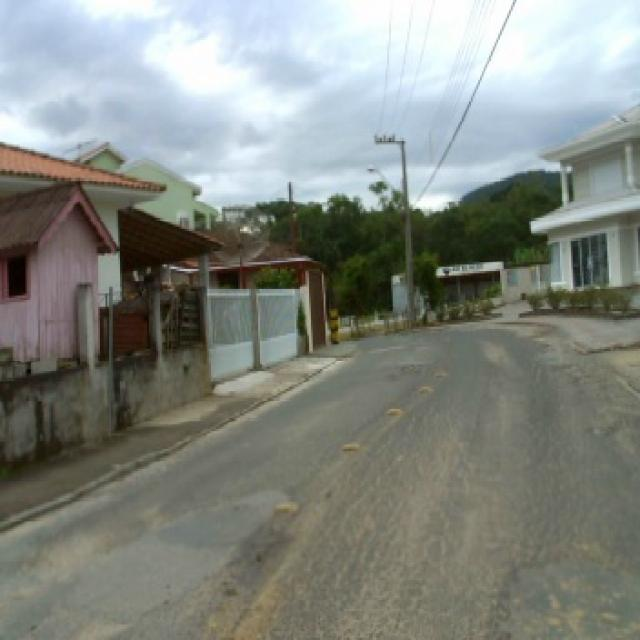Poth-hole: (485, 542, 622, 636), (544, 360, 594, 384), (582, 420, 614, 436), (270, 498, 298, 514), (397, 360, 428, 373), (536, 338, 553, 351), (338, 440, 360, 449), (384, 404, 402, 414), (416, 382, 433, 391)
